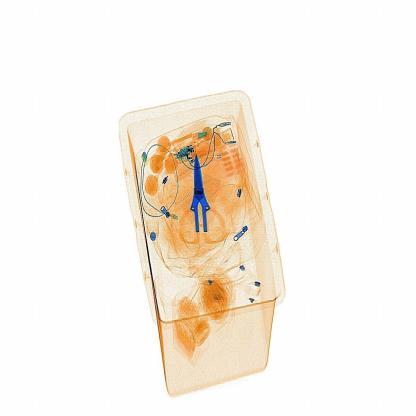gun: (171, 151, 241, 249)
